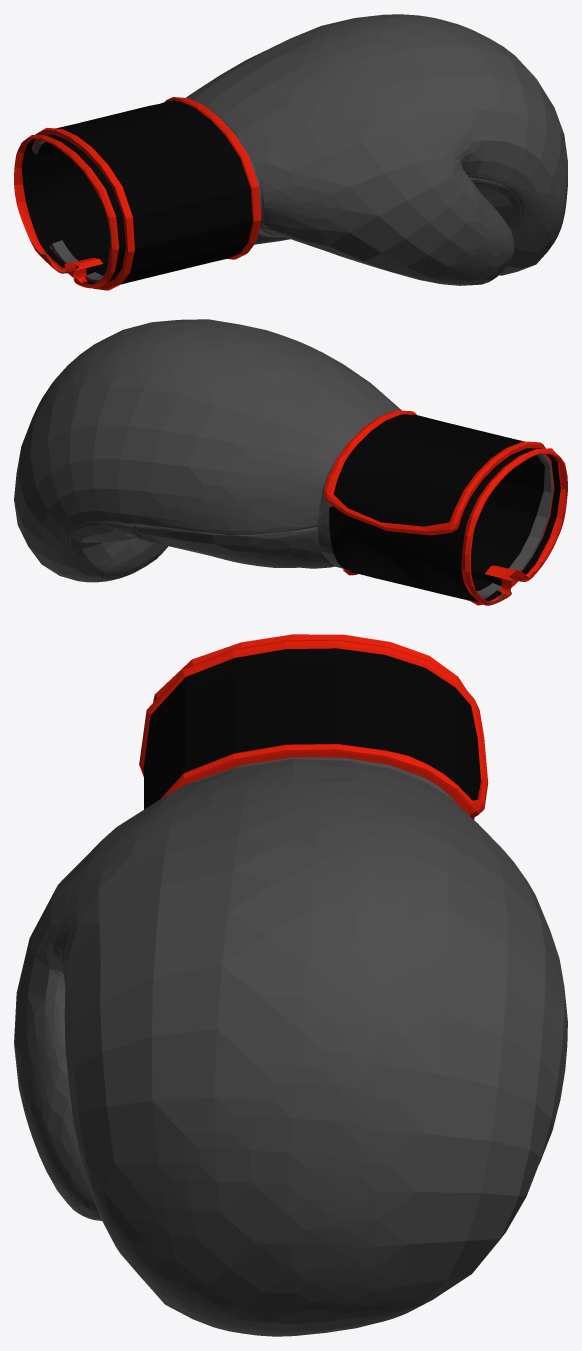
The model's file is Siyah Boks_Eldiveni_Sol.fbx.
3 views of the same model, one above another, from view 1: azimuth 30°, elevation 25°; view 2: azimuth 150°, elevation 25°; view 3: azimuth 270°, elevation 25° (orthographic). The views are drawn at different scales.
Parts seen in each view (by area): view 1: 15969_Boxing_Glove_new; view 2: 15969_Boxing_Glove_new; view 3: 15969_Boxing_Glove_new.
Part boxes in pixels (bbox=[...]): 15969_Boxing_Glove_new: bbox=[14, 14, 567, 290]; 15969_Boxing_Glove_new: bbox=[14, 319, 567, 605]; 15969_Boxing_Glove_new: bbox=[14, 634, 567, 1336].
Bounding box in the file's own units: 2301 × 1157 × 1369.
